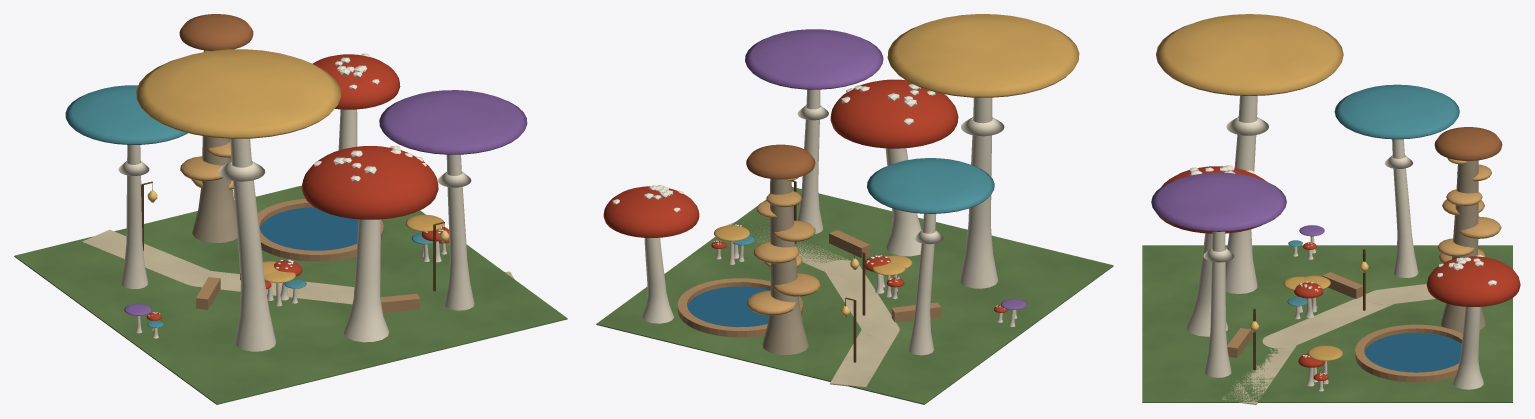
The model's file is hl_haj.glb.
3 renders of one model, left to right at view 1: azimuth 30°, elevation 25°; view 2: azimuth 150°, elevation 25°; view 3: azimuth 270°, elevation 25°, orthographic. The views are drawn at different scales.
Parts seen in each view (by area): view 1: dum; view 2: dum; view 3: dum.
Boxes of the visible parts, box(x1,y1,x2,y2) form: dum: box(14, 14, 567, 404); dum: box(596, 14, 1113, 404); dum: box(1142, 14, 1520, 404).
Size of the model in its own units: 14.78 by 10.09 by 14.46.
Materials: 1 (1 with a texture image).
